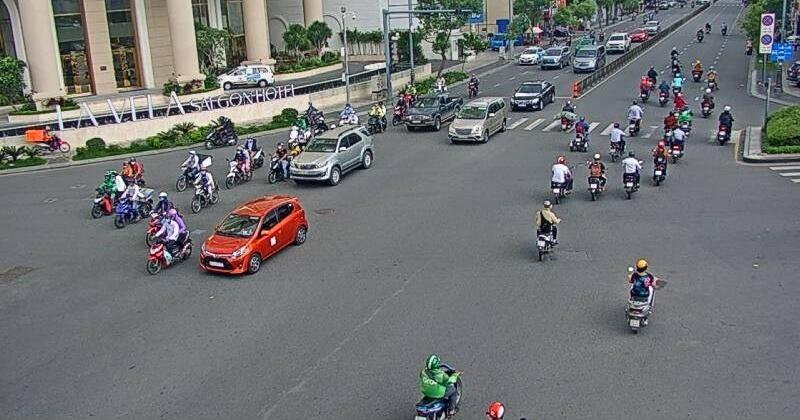xe hoi: (201, 192, 314, 276), (289, 124, 374, 187), (449, 95, 504, 145)
xe may: (146, 208, 191, 278), (415, 352, 460, 418), (622, 260, 657, 333), (89, 167, 125, 219), (507, 78, 556, 111), (174, 149, 212, 191), (533, 201, 562, 256), (190, 166, 219, 210), (224, 142, 251, 187), (266, 140, 293, 183), (549, 154, 573, 202), (619, 149, 641, 198), (585, 151, 606, 199), (649, 139, 669, 186), (569, 114, 590, 153), (605, 121, 626, 160), (715, 103, 734, 146), (626, 98, 643, 136)
